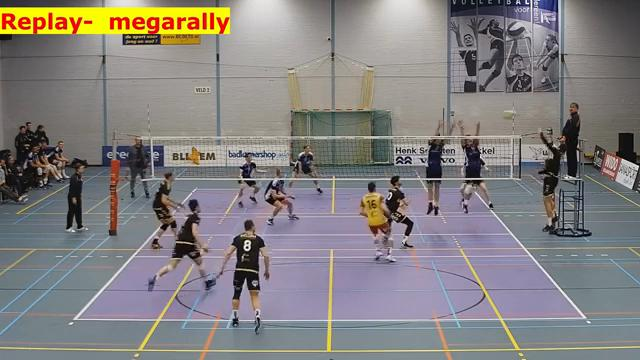Attack: (531, 123, 571, 237)
Block: (421, 116, 455, 216), (457, 119, 483, 214)
Player: (148, 199, 215, 290), (218, 220, 269, 333), (360, 182, 395, 261), (151, 172, 182, 248), (386, 175, 413, 248), (264, 168, 298, 225), (238, 153, 265, 207), (288, 145, 317, 187)
ball: (502, 108, 515, 120)
